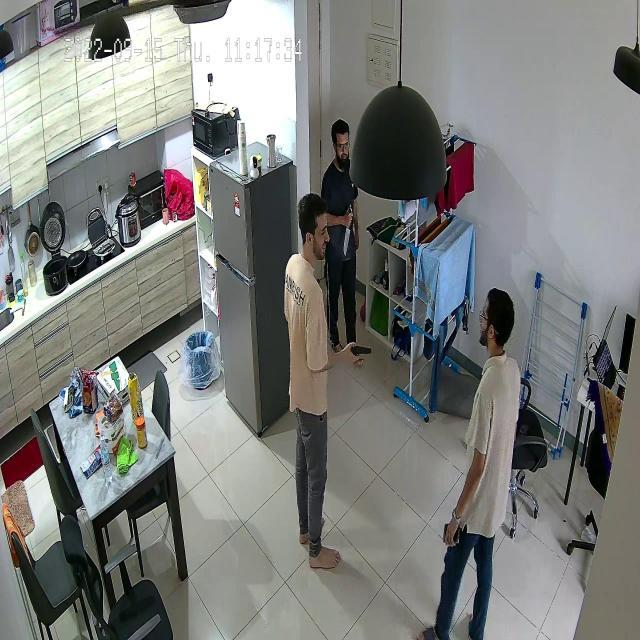Gun: (338, 329, 377, 363)
Knife: (338, 212, 358, 260)
